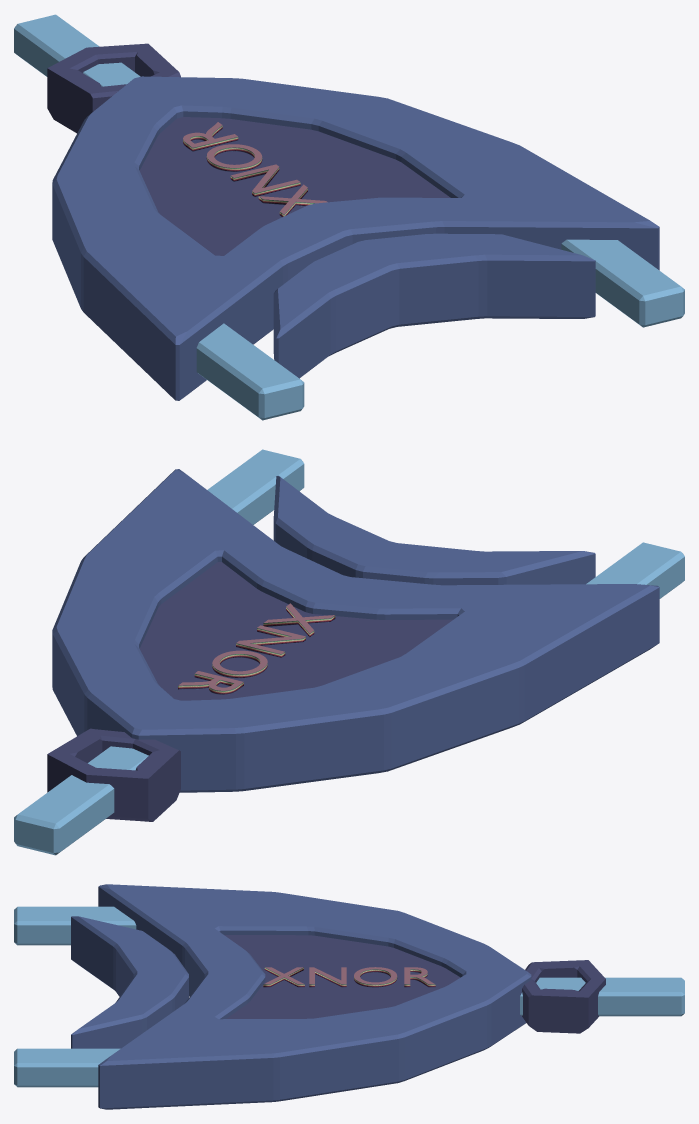
File: Assets_Gates.fbx_XNOR.fbx
3 renders of one model, top to bottom at view 1: azimuth 30°, elevation 25°; view 2: azimuth 150°, elevation 25°; view 3: azimuth 270°, elevation 25°, orthographic. The views are drawn at different scales.
Parts seen in each view (by area): view 1: XOR, N.003, Text; view 2: XOR, N.003, Text; view 3: XOR, N.003, Text.
Boxes of the visible parts, box(x1,y1,x2,y2) form: XOR: box(14, 14, 684, 420); N.003: box(47, 43, 180, 133); Text: box(183, 122, 327, 217); XOR: box(14, 449, 684, 855); N.003: box(47, 728, 180, 821); Text: box(178, 603, 335, 694); XOR: box(14, 884, 684, 1109); N.003: box(522, 960, 605, 1033); Text: box(263, 967, 435, 987).
Bounding box in the file's own units: 254 × 32 × 400.
